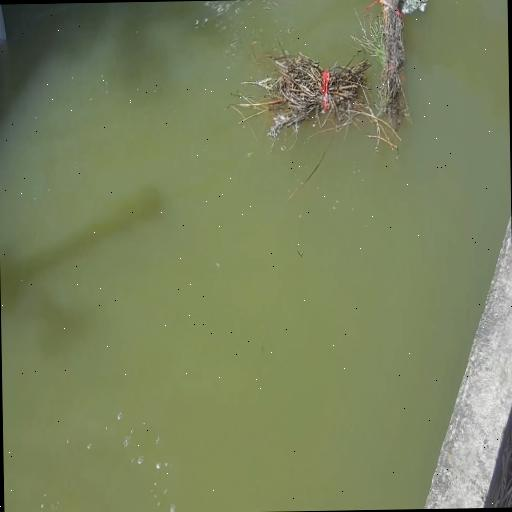twig: (225, 28, 379, 162), (353, 0, 431, 132)
